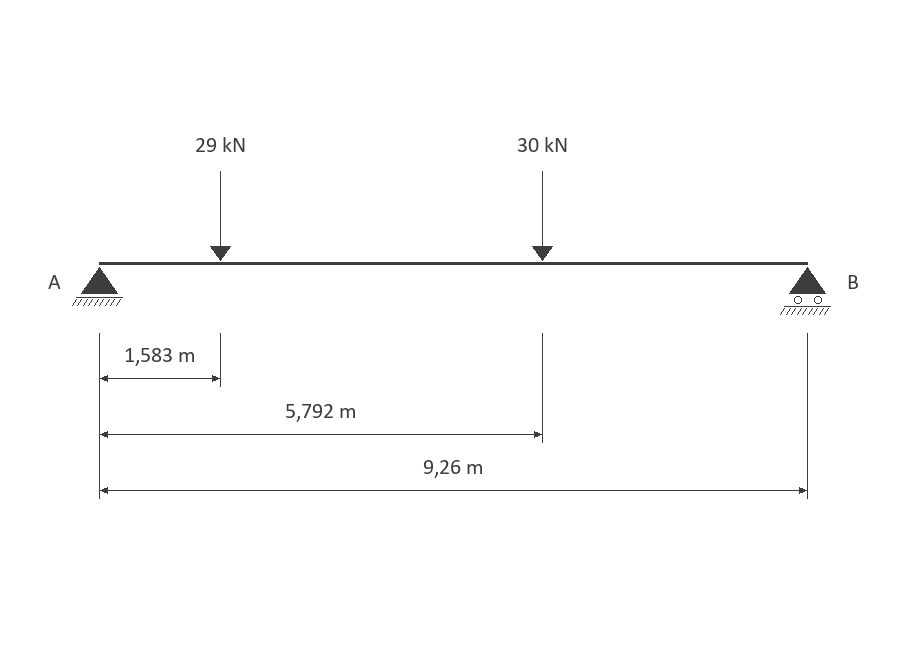pin_support: (72, 267, 123, 306)
point_load: (210, 171, 231, 261), (532, 171, 553, 261)
roller_support: (780, 267, 831, 315)
